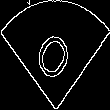O_SW: (31, 22, 79, 88)
